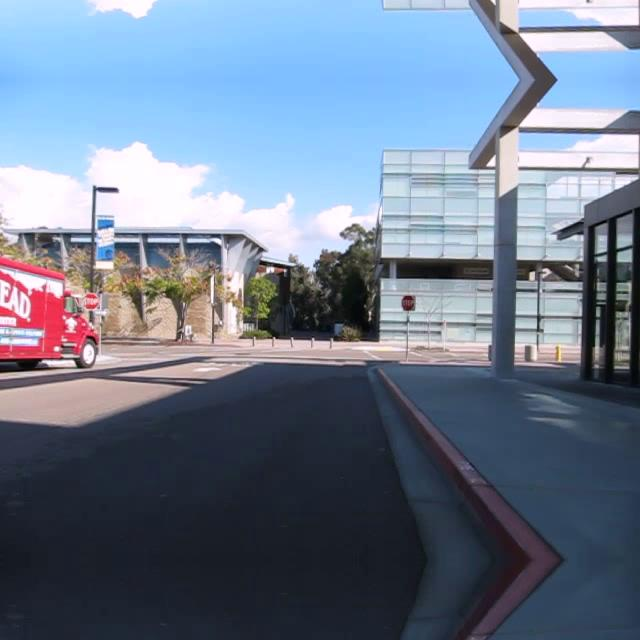stop: (81, 292, 99, 310), (401, 294, 415, 310)
